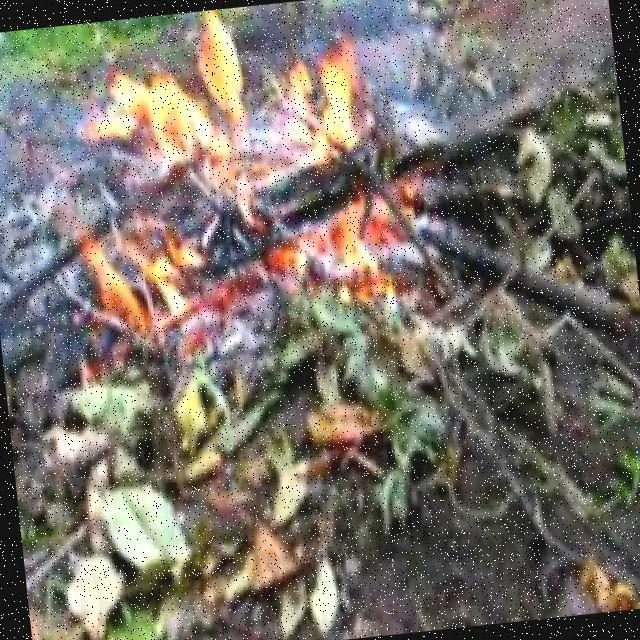Fire: (36, 5, 430, 343)
